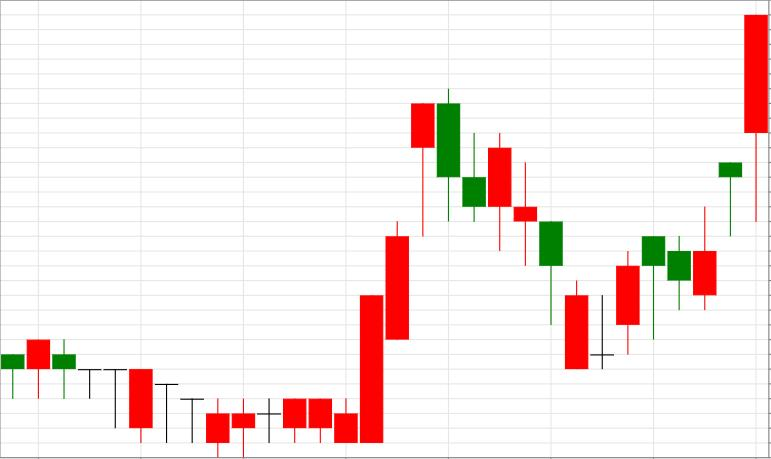hanging_man_fall: (232, 103, 436, 458)
